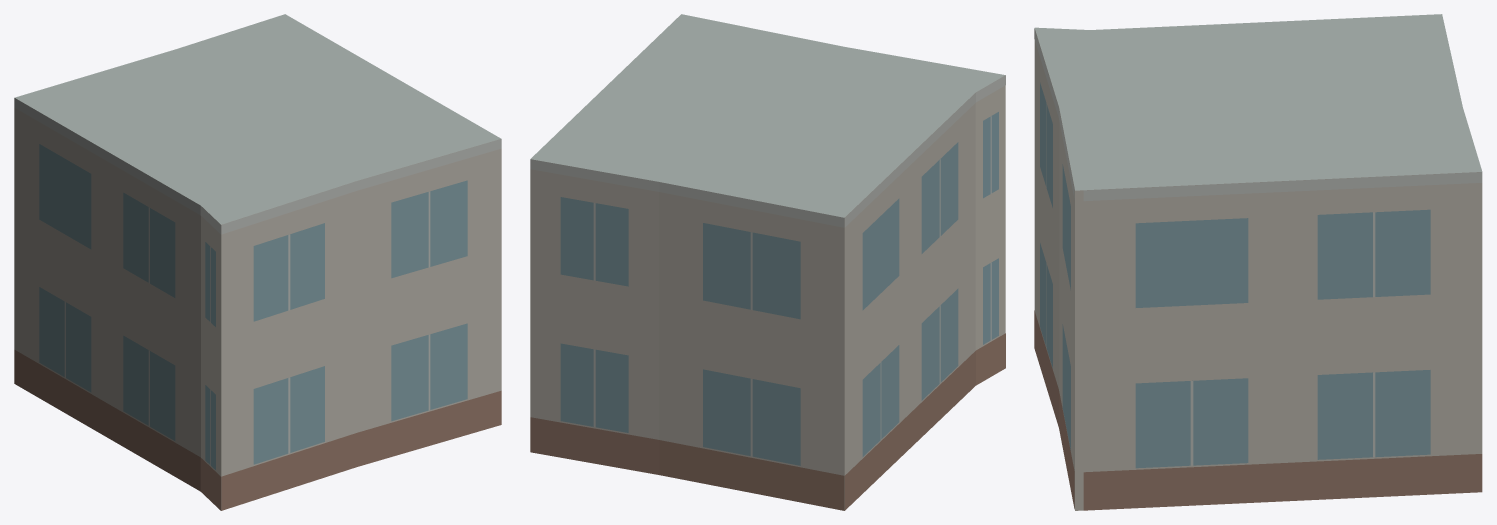
The model's file is survey-upis-32631019.glb.
The picture shows the model from 3 angles, left to right: view 1: azimuth 30°, elevation 25°; view 2: azimuth 150°, elevation 25°; view 3: azimuth 270°, elevation 25°; orthographic projection. The views are drawn at different scales.
Visible parts, largest first — view 1: survey-upis-32631019.tmp; view 2: survey-upis-32631019.tmp; view 3: survey-upis-32631019.tmp.
Boxes of the visible parts, x1,y1,x2,y2 form: survey-upis-32631019.tmp: [14, 14, 501, 510]; survey-upis-32631019.tmp: [530, 14, 1005, 510]; survey-upis-32631019.tmp: [1034, 14, 1482, 510].
Bounding box in the file's own units: 8.4 × 7.1 × 9.01.
